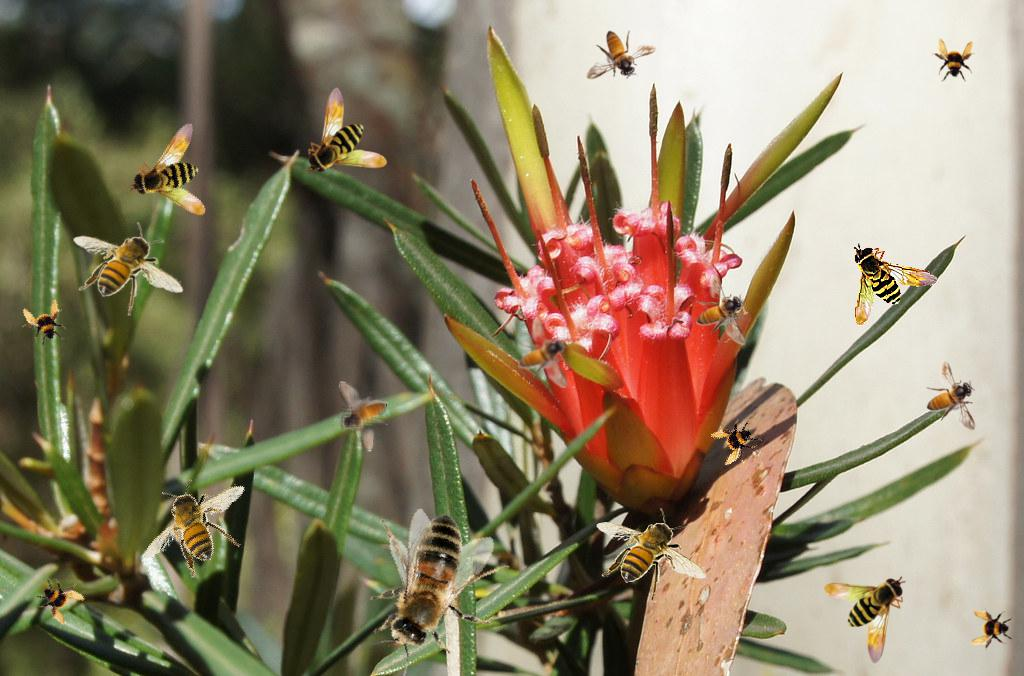Bee: (326, 489, 533, 676), (130, 452, 267, 596), (125, 109, 237, 225), (596, 508, 707, 602), (73, 222, 184, 316), (847, 243, 941, 331), (824, 576, 906, 664), (305, 87, 387, 175), (706, 411, 768, 473), (28, 567, 90, 629), (586, 30, 657, 80), (518, 317, 568, 388), (338, 381, 388, 452), (696, 274, 746, 345), (926, 360, 976, 431), (15, 295, 73, 353), (970, 608, 1014, 652), (931, 38, 975, 82)
